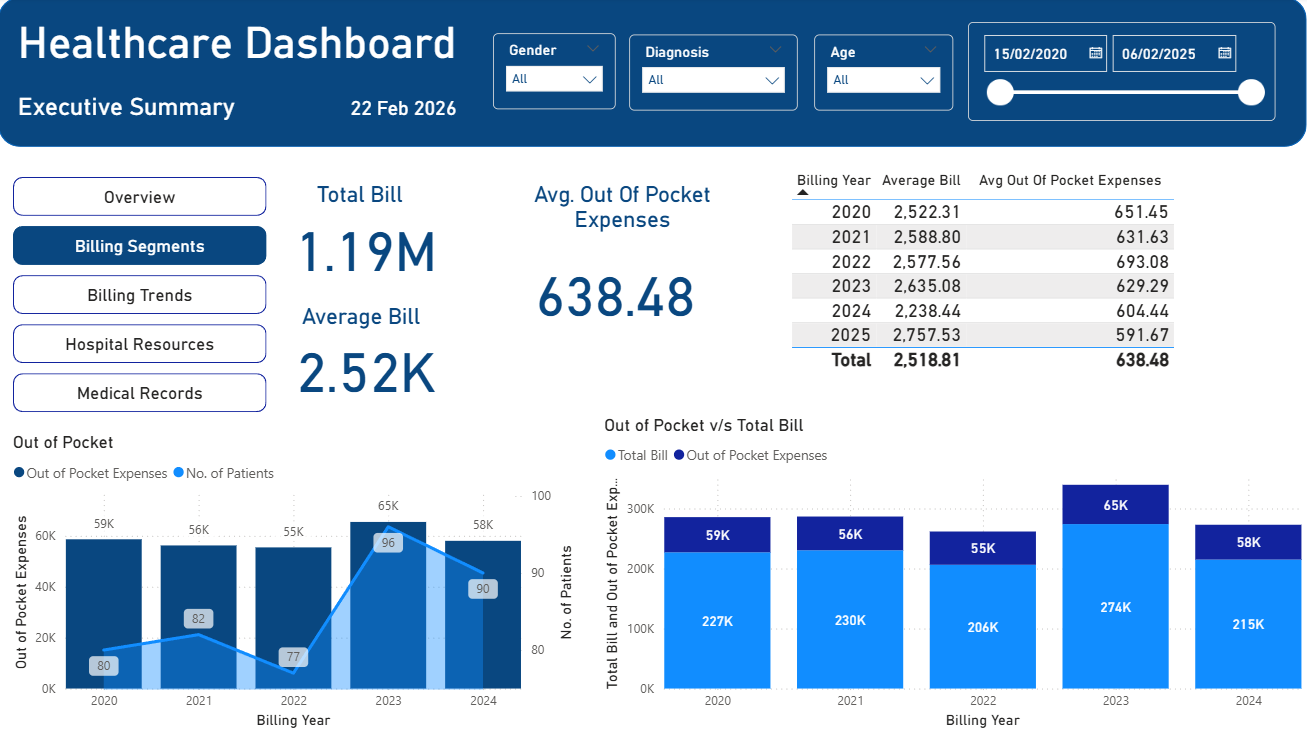

This screenshot's page, from the dashboard's own definition file:
{"tool":"powerbi","page":{"name":"Billing Segments","canvas":[1280,720],"ordinal":1},"visuals":[{"type":"shape","box":[0,0,1280.3,146.7],"z":0,"group":"g1"},{"type":"card","fields":{"Values":["billing.AVG OUT OF POCKET EXPENSES"]},"box":[512.4,248.2,183.4,75.8],"z":0},{"type":"textbox","box":[14.7,14.7,454.9,59.9],"z":1000,"group":"g1"},{"type":"lineStackedColumnComboChart","title":"Out of Pocket","fields":{"Category":["billing.Billing Year"],"Y":["Sum(billing.Out_of_Pocket_Expenses)"],"Y2":["billing.No. of Patients"]},"box":[9.8,425.5,558.8,294.7],"z":1000},{"type":"textbox","box":[14.7,88,223.8,40.4],"z":2000,"group":"g1"},{"type":"tableEx","fields":{"Values":["billing.Billing Year","billing.Average Bill","billing.AVG OUT OF POCKET EXPENSES"]},"box":[770.4,163.9,490.4,223.8],"z":2000},{"type":"card","fields":{"Values":["billing.Total Bill"]},"box":[276.4,207.9,167.5,68.5],"z":3000},{"type":"card","fields":{"Values":["billing.Average Bill"]},"box":[276.4,324.1,168.8,73.4],"z":4000},{"type":"textbox","box":[306.9,176.1,106.4,40.4],"z":5000},{"type":"textbox","box":[292.3,294.7,138.2,40.4],"z":6000},{"type":"textbox","box":[512.4,176.1,196.9,62.4],"z":7000},{"type":"columnChart","title":"Out of Pocket v/s Total Bill","fields":{"Y":["billing.Total Bill","billing.Out of Pocket Expenses"],"Category":["billing.Billing Year"]},"box":[588.2,408.4,692.1,311.8],"z":8000},{"type":"group","id":"g1","title":"Group 1","box":[0,0,1280.3,146.7],"z":9000},{"type":"card","fields":{"Values":["patients.Today Label"]},"box":[335.1,88,123.5,41.6],"z":10000,"group":"g1"},{"type":"pageNavigator","box":[14.7,176.1,248.2,232.3],"z":10000},{"type":"slicer","fields":{"Values":["patients.Diagnosis"]},"box":[617.5,36.7,165.1,74.6],"z":11000,"group":"g1"},{"type":"slicer","fields":{"Values":["billing.Billing_Date"]},"box":[948.9,24.5,300.8,96.6],"z":12000,"group":"g1"},{"type":"slicer","fields":{"Values":["patients.Gender"]},"box":[484.2,35.5,119.8,74.6],"z":26000,"group":"g1"},{"type":"slicer","fields":{"Values":["patients.Age Category"]},"box":[798.5,36.7,135.7,74.6],"z":27000,"group":"g1"}]}

Visuals, with their boxes in screenshot pixels (x1, y1, x2, y2), scaled from the page's 1280x720 canvas onto the 1307x732 screenshot:
shape: <region>0, 0, 1306, 149</region>
card - billing.AVG OUT OF POCKET EXPENSES: <region>523, 252, 710, 329</region>
textbox: <region>15, 15, 480, 76</region>
"Out of Pocket" lineStackedColumnComboChart: <region>10, 433, 581, 731</region>
textbox: <region>15, 89, 244, 131</region>
tableEx - billing.Billing Year x billing.Average Bill: <region>787, 167, 1287, 394</region>
card - billing.Total Bill: <region>282, 211, 453, 281</region>
card - billing.Average Bill: <region>282, 330, 455, 404</region>
textbox: <region>313, 179, 422, 220</region>
textbox: <region>298, 300, 440, 341</region>
textbox: <region>523, 179, 724, 242</region>
"Out of Pocket v/s Total Bill" columnChart: <region>601, 415, 1306, 731</region>
"Group 1" group: <region>0, 0, 1306, 149</region>
card - patients.Today Label: <region>342, 89, 468, 132</region>
pageNavigator: <region>15, 179, 268, 415</region>
slicer - patients.Diagnosis: <region>631, 37, 799, 113</region>
slicer - billing.Billing_Date: <region>969, 25, 1276, 123</region>
slicer - patients.Gender: <region>494, 36, 617, 112</region>
slicer - patients.Age Category: <region>815, 37, 954, 113</region>
